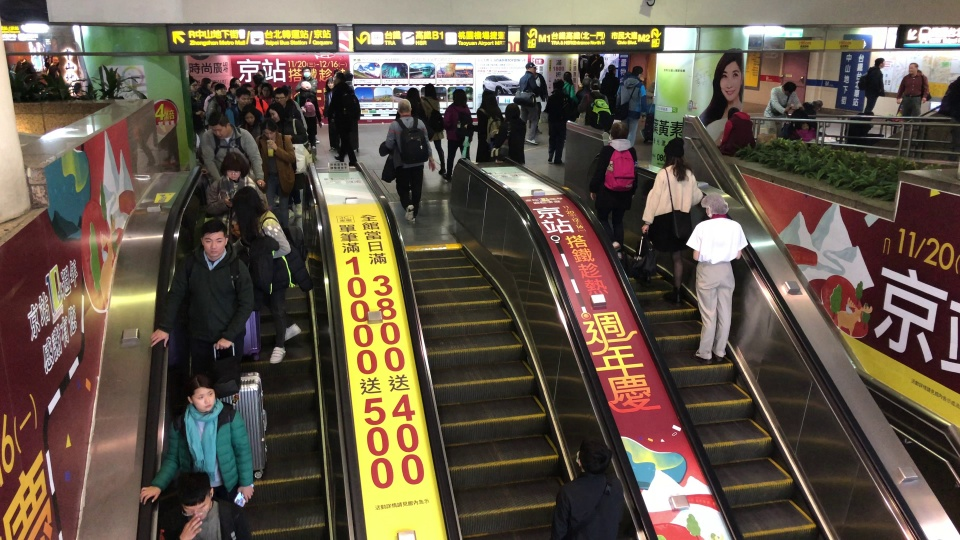person_head: (176, 471, 214, 521), (231, 185, 264, 220), (186, 375, 216, 412), (200, 219, 228, 257), (220, 151, 249, 180), (700, 192, 729, 218), (662, 137, 685, 166), (207, 112, 230, 140), (607, 121, 630, 142), (241, 104, 259, 127), (266, 102, 285, 123), (260, 118, 277, 141), (504, 102, 520, 122), (235, 88, 251, 107), (396, 98, 412, 116), (405, 87, 421, 104), (481, 90, 497, 107), (273, 87, 288, 105), (452, 89, 467, 106), (423, 82, 437, 99), (241, 83, 255, 99), (725, 107, 741, 120), (783, 81, 797, 95), (299, 80, 311, 96), (213, 83, 227, 96), (332, 72, 346, 85), (260, 83, 272, 97), (281, 84, 292, 99), (228, 77, 241, 89), (552, 79, 565, 91), (631, 64, 643, 77), (873, 57, 886, 69), (907, 61, 919, 74), (200, 77, 212, 89), (252, 73, 264, 85), (811, 99, 823, 111), (229, 83, 240, 96), (590, 77, 601, 90), (607, 63, 618, 76), (343, 71, 353, 84), (863, 110, 874, 121), (301, 66, 311, 78), (325, 77, 335, 89), (581, 77, 591, 89), (73, 81, 82, 94), (189, 79, 198, 92), (524, 62, 534, 73), (256, 69, 266, 79), (210, 81, 219, 92), (563, 71, 572, 82), (16, 51, 25, 61), (51, 56, 59, 65), (533, 63, 537, 72)
person_vbox: (139, 374, 254, 540), (149, 220, 255, 375), (230, 186, 301, 363), (633, 137, 703, 306), (684, 191, 748, 365), (587, 122, 639, 260), (385, 98, 436, 223), (162, 471, 251, 540), (205, 151, 268, 242), (199, 111, 267, 187), (265, 102, 309, 219), (253, 118, 297, 226), (272, 86, 307, 204), (394, 87, 430, 194), (327, 71, 361, 167), (441, 89, 473, 182), (463, 91, 504, 163), (543, 79, 576, 164), (615, 64, 647, 149), (418, 82, 446, 175), (763, 82, 803, 138), (491, 102, 526, 165), (293, 81, 322, 156), (717, 107, 756, 158), (896, 61, 929, 121), (295, 66, 320, 144), (517, 62, 540, 145), (577, 77, 610, 131), (224, 88, 265, 126), (843, 111, 884, 149), (528, 63, 547, 135), (281, 84, 307, 134), (864, 57, 886, 111), (188, 78, 206, 143), (600, 63, 621, 116), (322, 76, 336, 152), (236, 103, 265, 139), (204, 83, 231, 121), (802, 98, 828, 136), (240, 83, 268, 117), (561, 71, 578, 104), (14, 51, 36, 76), (203, 80, 219, 112), (575, 77, 590, 106), (198, 77, 212, 108), (795, 121, 816, 141), (590, 53, 605, 79), (257, 83, 274, 105), (578, 53, 590, 82), (251, 73, 264, 96), (47, 56, 60, 78), (343, 71, 355, 94), (227, 83, 240, 104), (255, 69, 267, 83), (800, 121, 810, 131)
